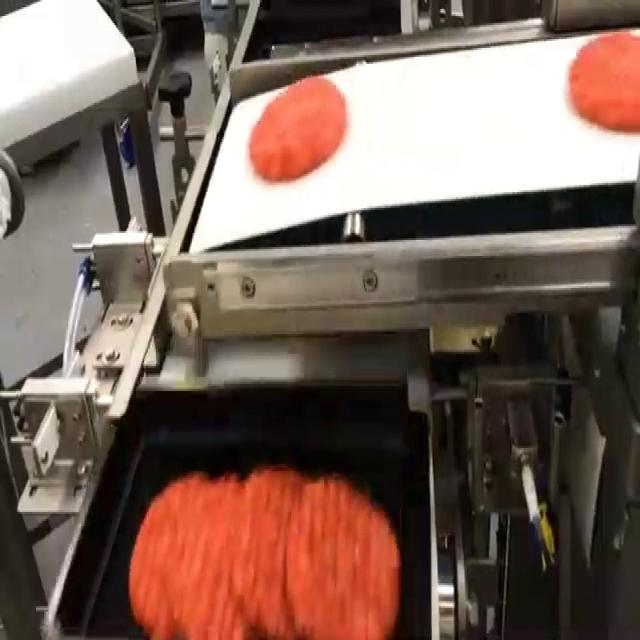4-hamburguer: (129, 466, 400, 638)
hamburguer: (249, 78, 347, 181)
